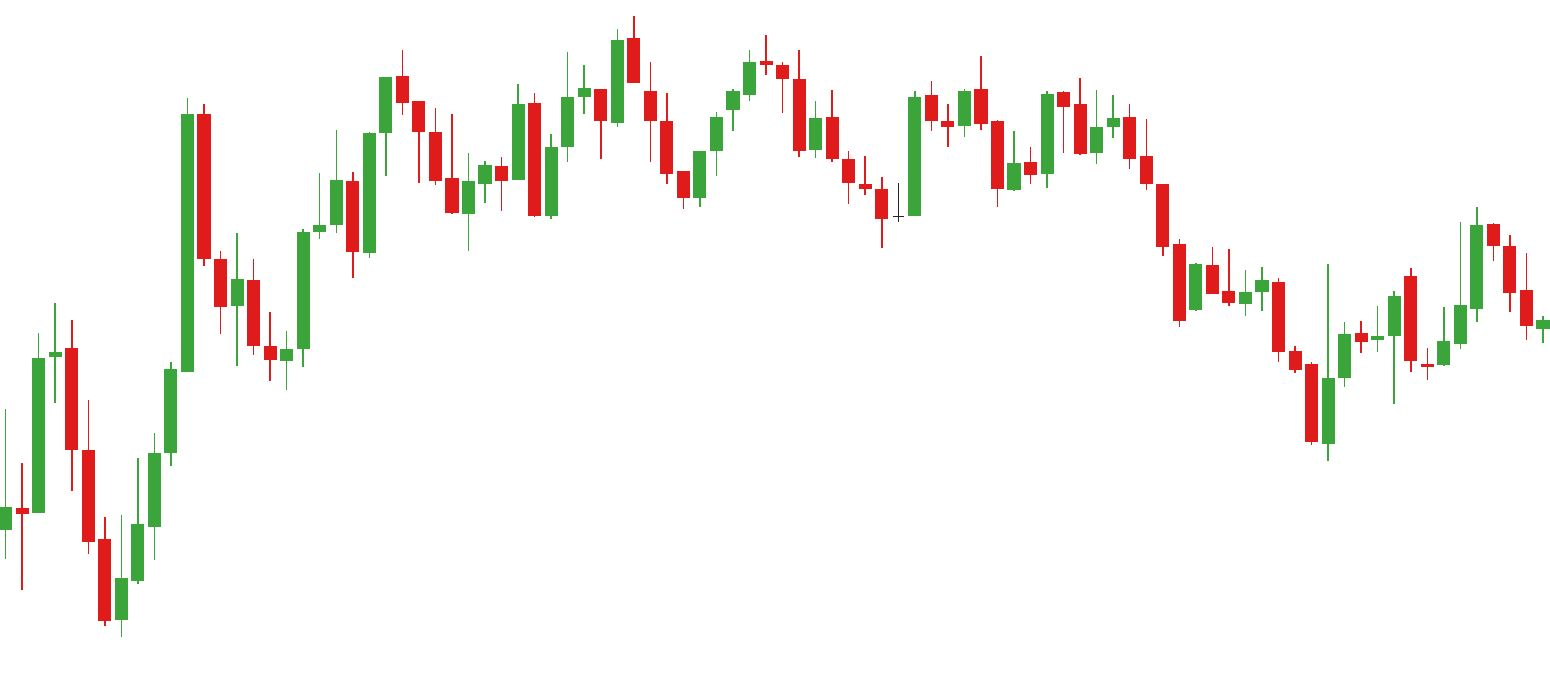buy: (14, 420, 131, 642)
sell: (391, 18, 643, 153), (1402, 209, 1519, 321)
